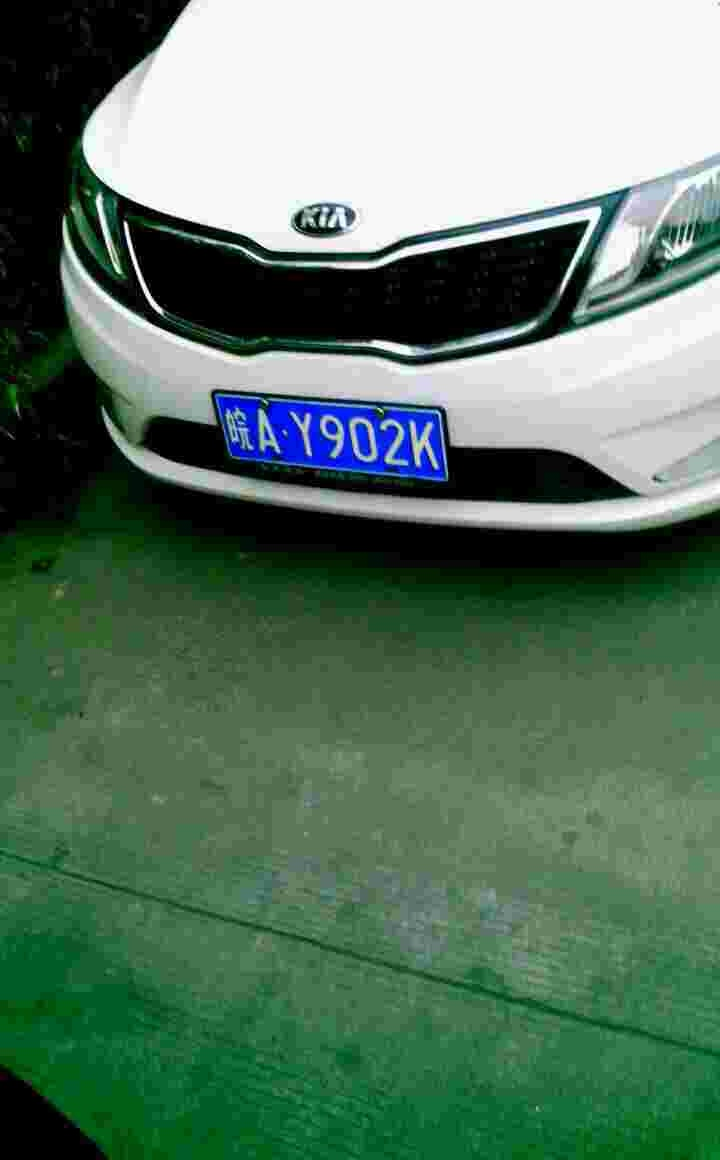license_plate: (228, 395, 452, 487)
